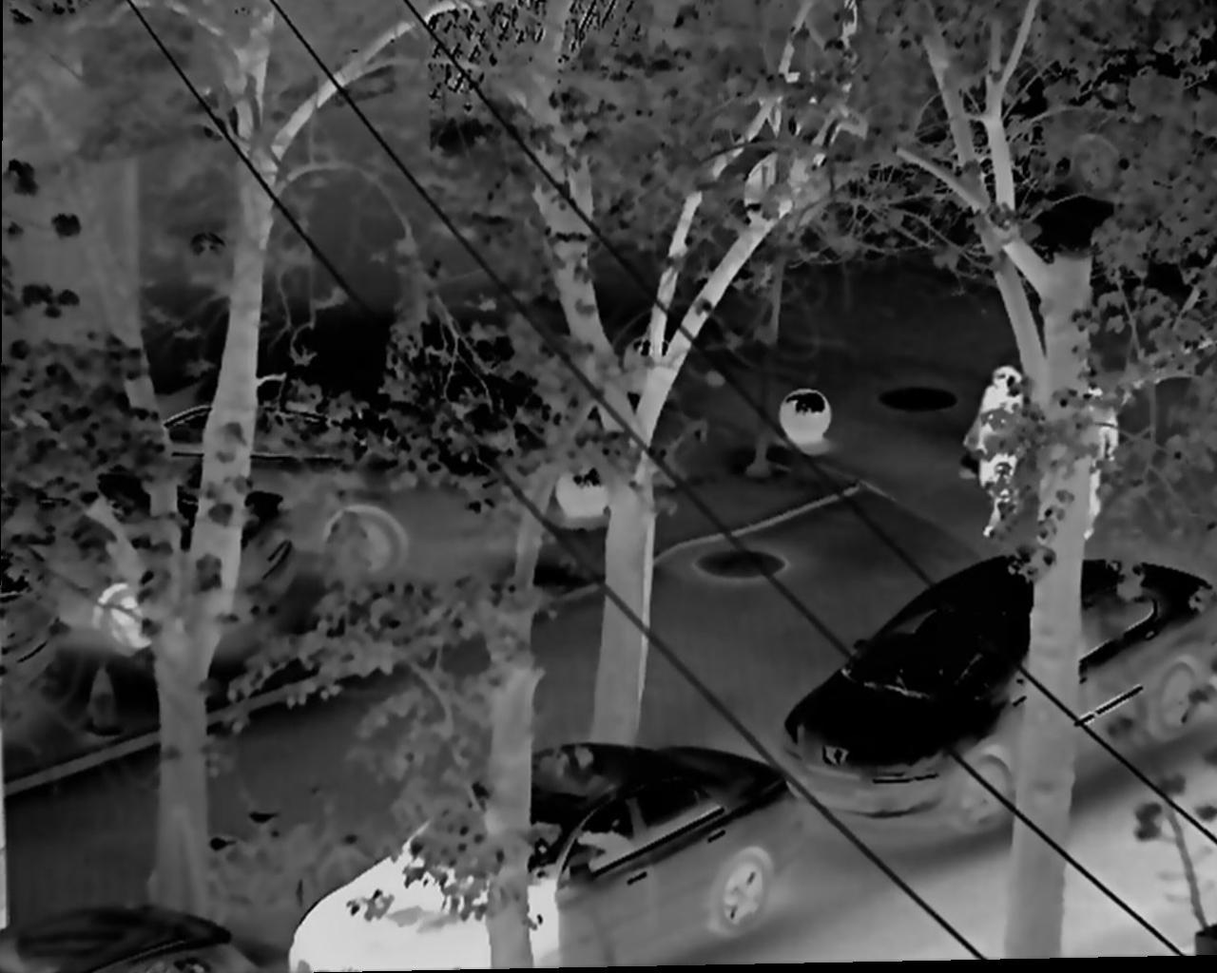person: (967, 360, 1027, 542), (1061, 377, 1114, 545)
